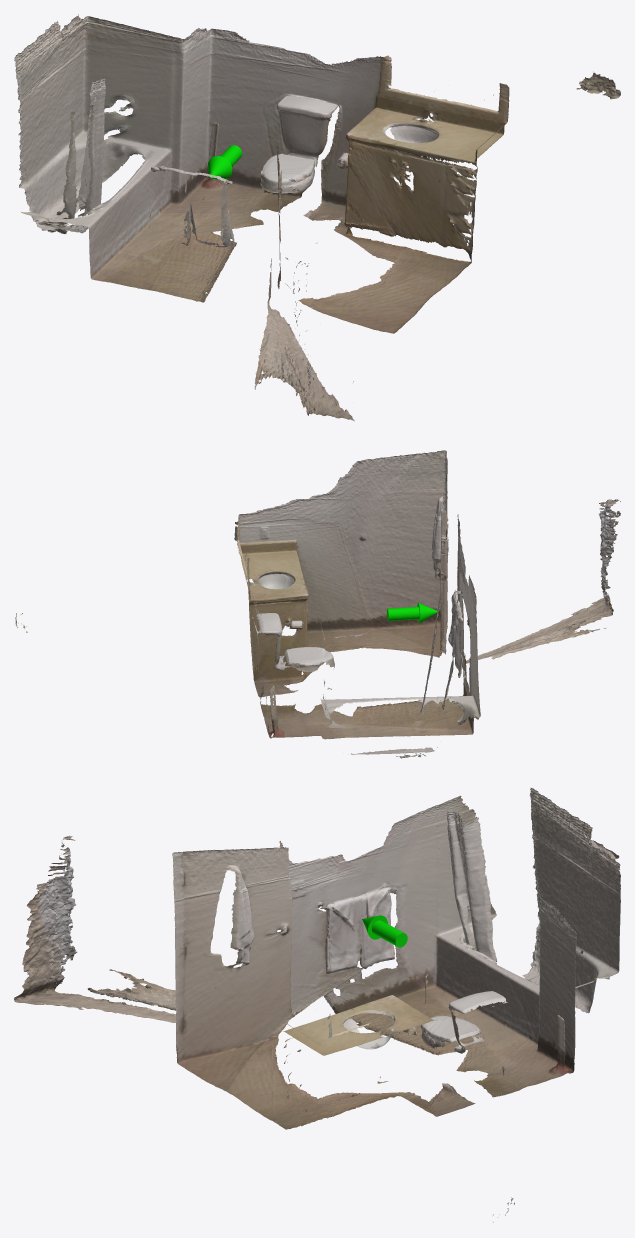
File: situation_5.glb
3 renders of one model, top to bottom at view 1: azimuth 30°, elevation 25°; view 2: azimuth 150°, elevation 25°; view 3: azimuth 270°, elevation 25°, orthographic. The views are drawn at different scales.
Visible parts, largest first — view 1: world; view 2: world; view 3: world.
Part boxes in pixels (x1,y1,x2,y2): world: (14,14,620,421); world: (15,450,620,758); world: (14,788,620,1222).
Size of the model in its own units: 5.19 by 1.87 by 4.73.
